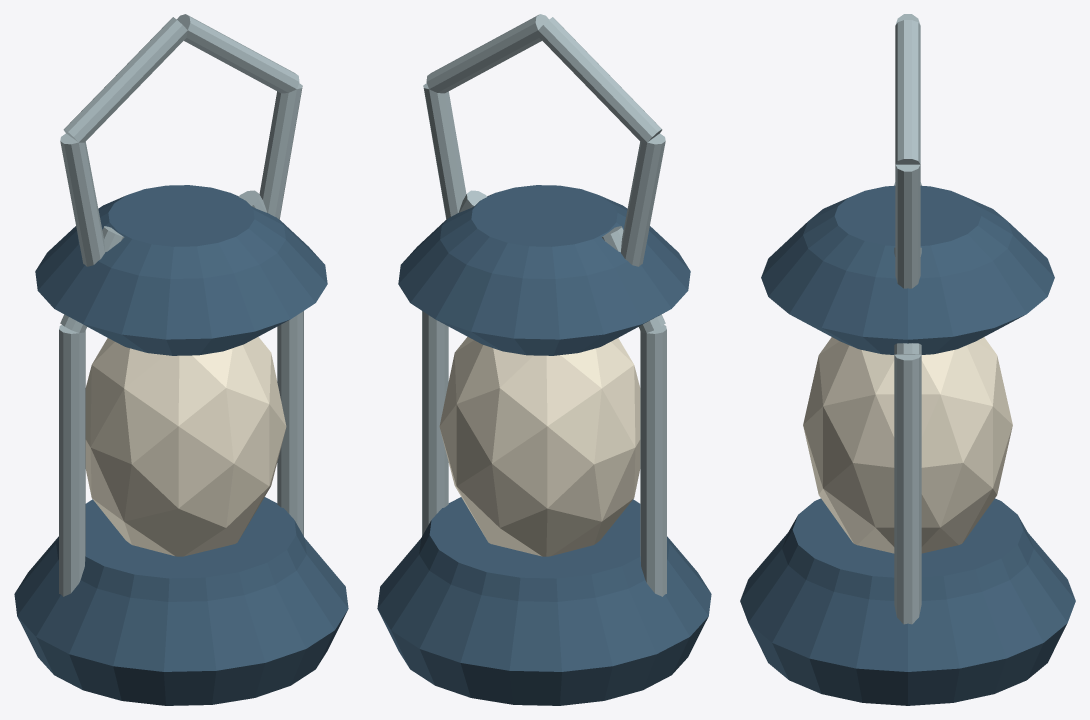
File: harbor-and-tackle-camp-lantern-81612db6.glb
3 renders of one model, left to right at view 1: azimuth 30°, elevation 25°; view 2: azimuth 150°, elevation 25°; view 3: azimuth 270°, elevation 25°, orthographic.
Visible parts, largest first — view 1: navy, ivory, metal; view 2: navy, ivory, metal; view 3: navy, ivory, metal.
Part boxes in pixels (x1,y1,x2,y2): navy: (14,185,348,705); ivory: (85,336,286,556); metal: (59,14,303,596); navy: (377,185,711,705); ivory: (439,336,640,556); metal: (422,14,666,596); navy: (740,185,1075,705); ivory: (803,337,1012,553); metal: (894,14,921,624).
Bounding box in the file's own units: 0.32 × 0.6591 × 0.32.
